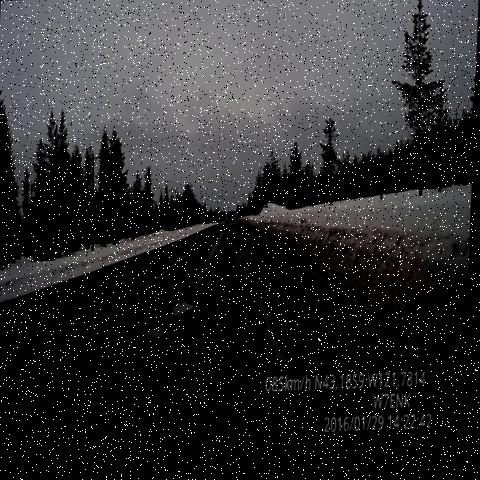pothole: (113, 284, 205, 377), (183, 254, 209, 287)
